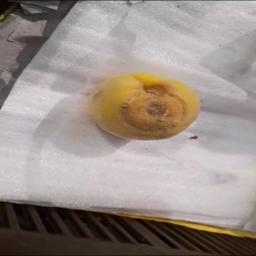Peach Rotten: (81, 64, 206, 150)
